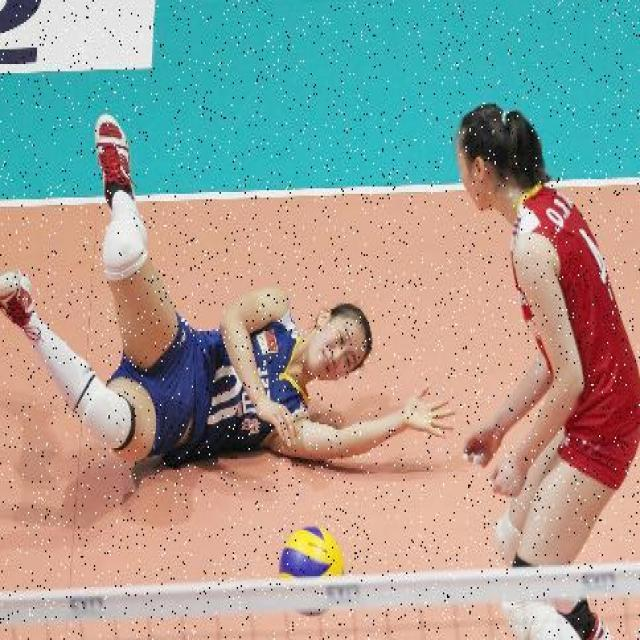fall: (43, 267, 394, 481)
